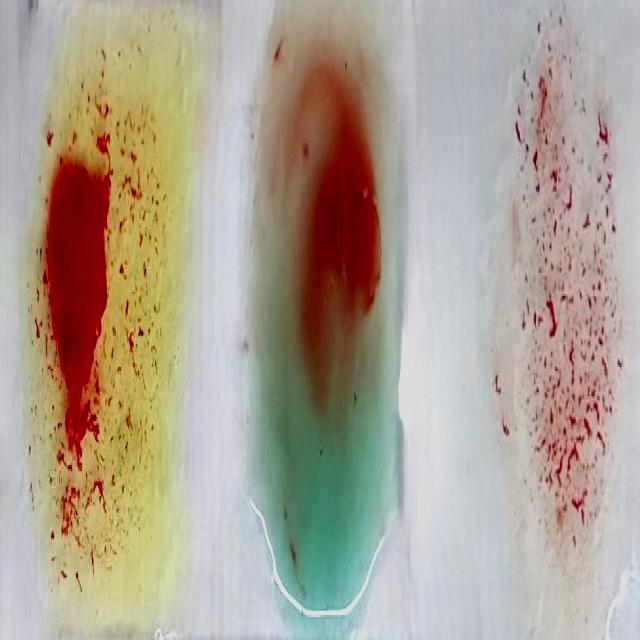B: (23, 0, 171, 617)
D: (517, 0, 626, 564)
